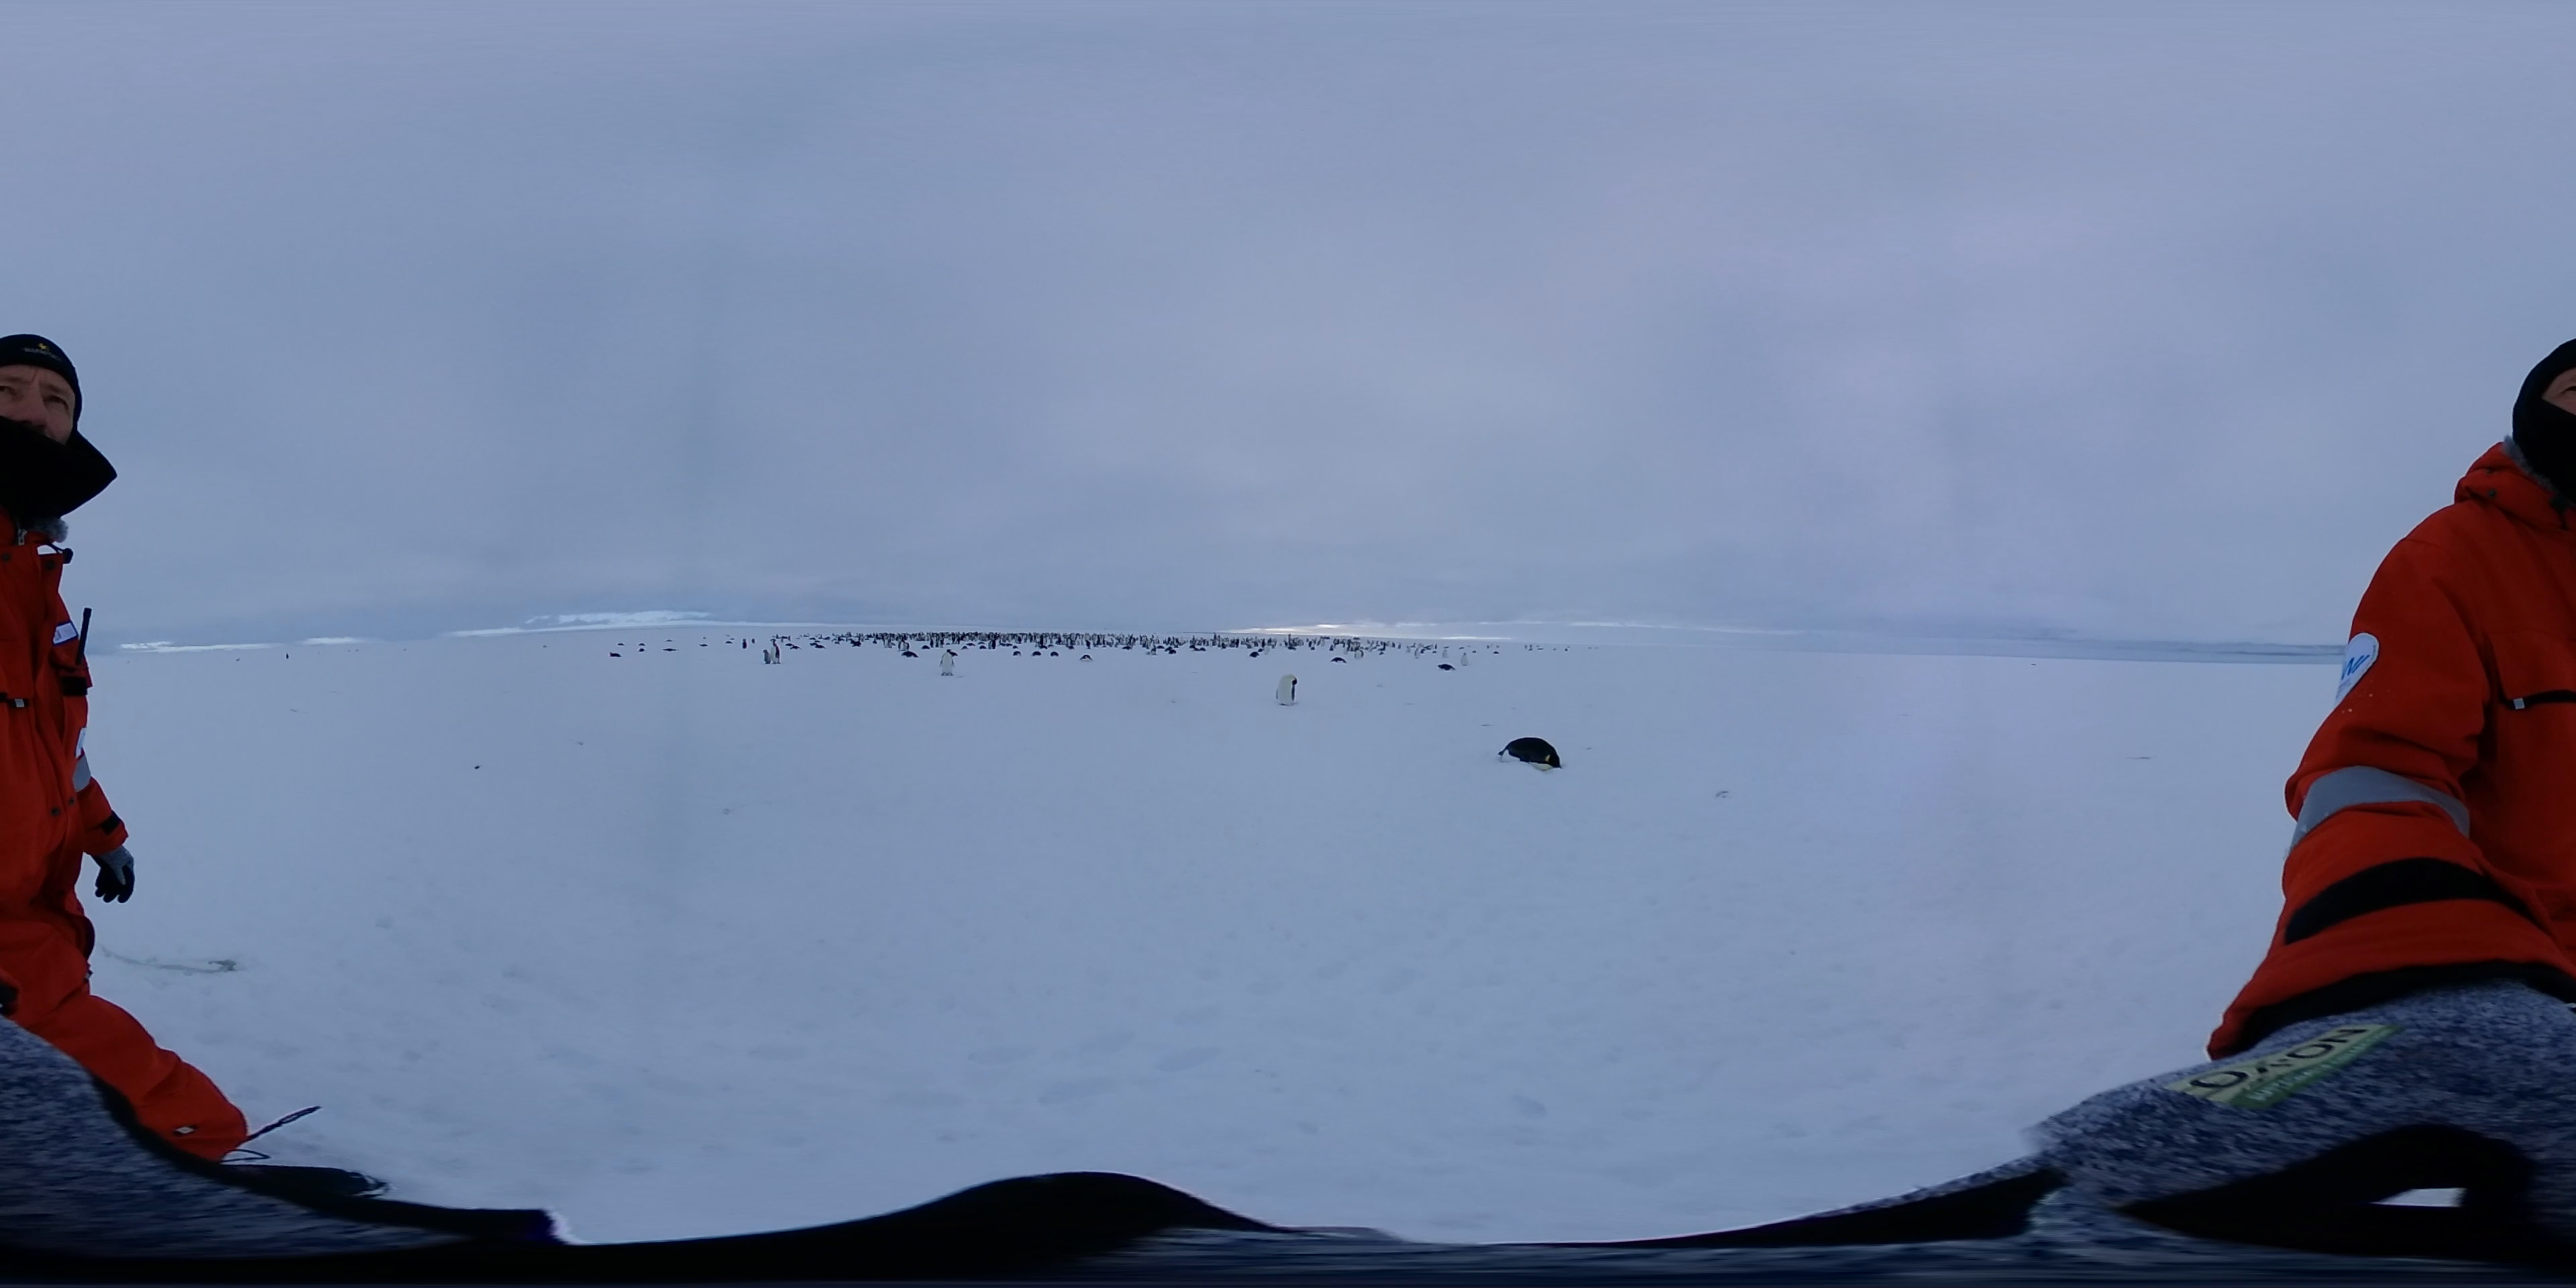adult_standing_penguin: (1273, 670, 1301, 710), (936, 647, 958, 677), (770, 641, 784, 669)
adult_toboggan_penguin: (1493, 736, 1559, 769), (1434, 662, 1456, 672)
juvenile_penguin: (761, 647, 772, 667)
researcher: (2251, 314, 2576, 1166), (0, 319, 273, 1188)
